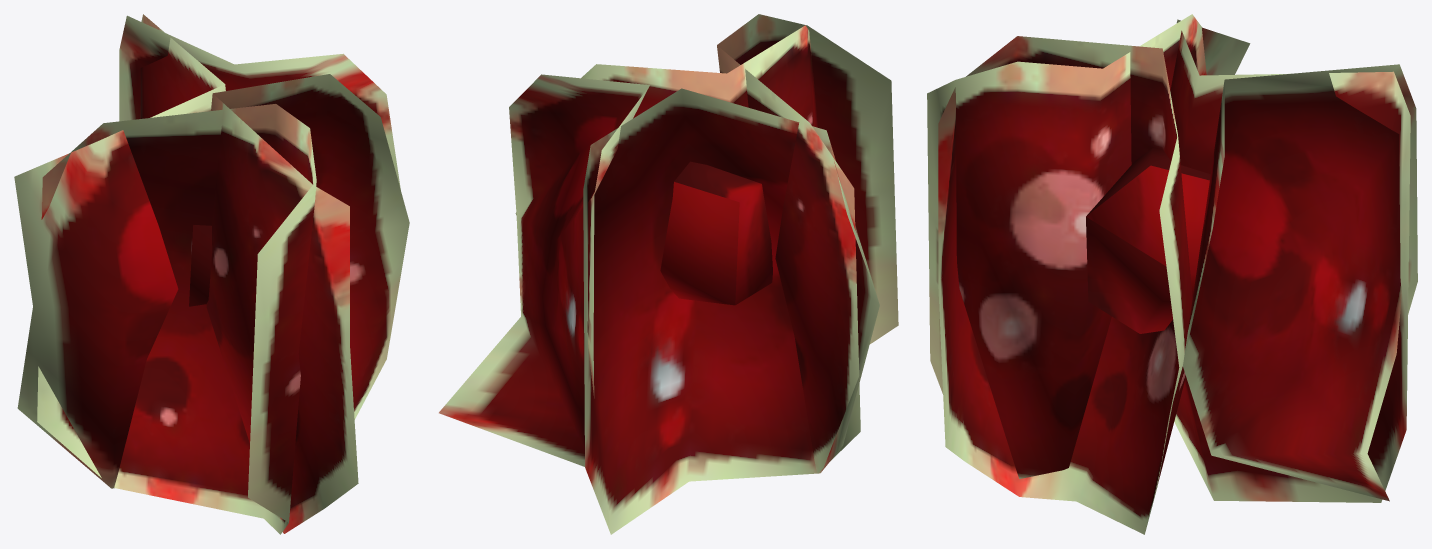
File: Zombie_Broken_Self_Head02_644b5735__Zombie_Broken_Green_0_bb717ba8_c1f257.obj
3 renders of one model, left to right at view 1: azimuth 30°, elevation 25°; view 2: azimuth 150°, elevation 25°; view 3: azimuth 270°, elevation 25°, orthographic. The views are drawn at different scales.
Size of the model in its own units: 0.5704 by 0.5884 by 0.5827.
1 material, 1 textured.
